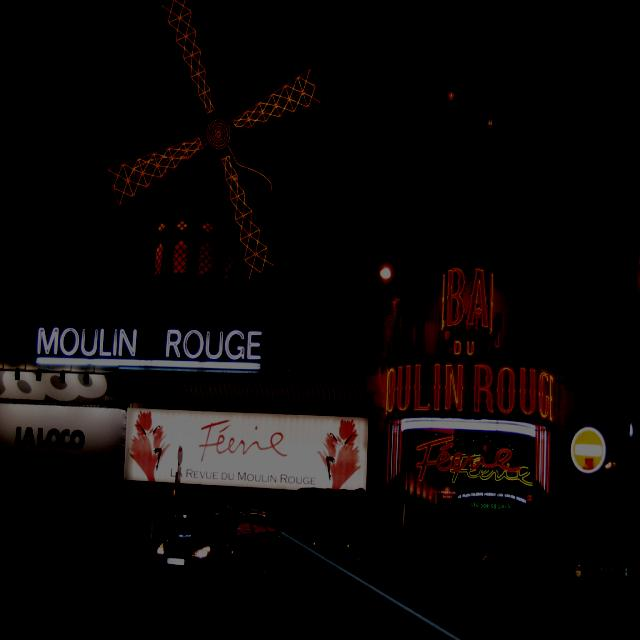Car: (159, 504, 289, 588), (479, 535, 588, 588)
